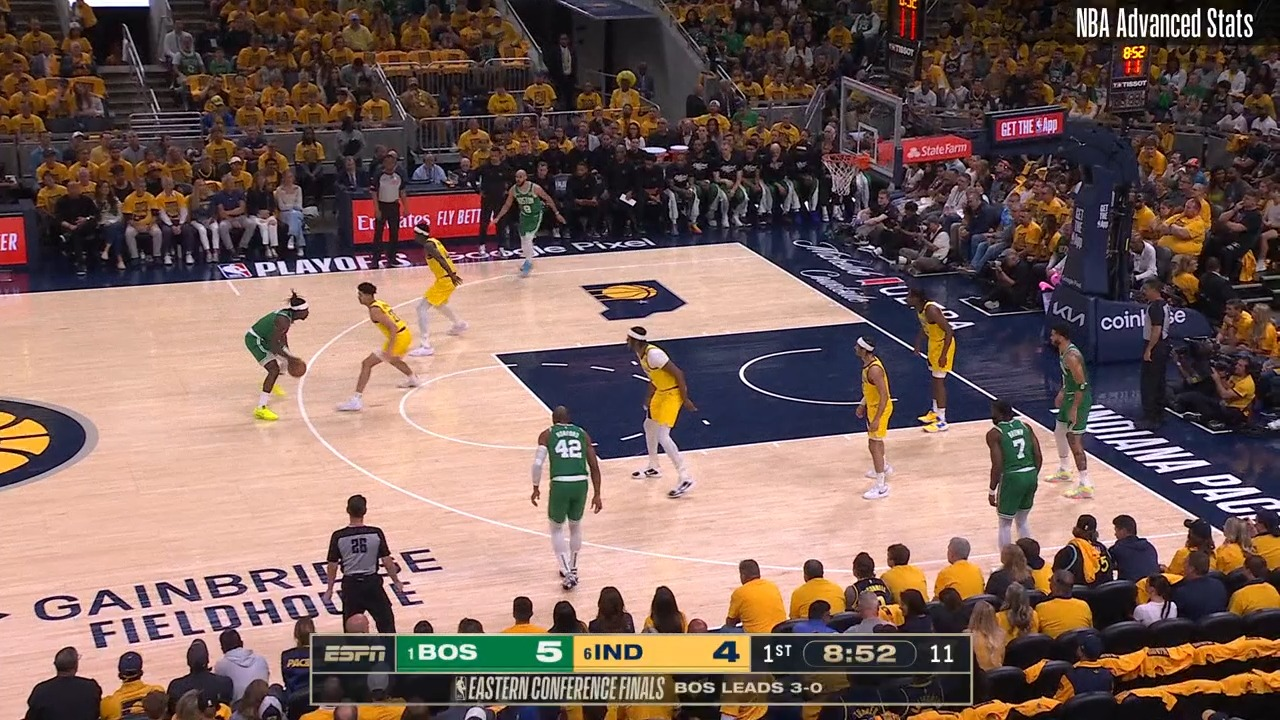basketball: (287, 356, 307, 381)
